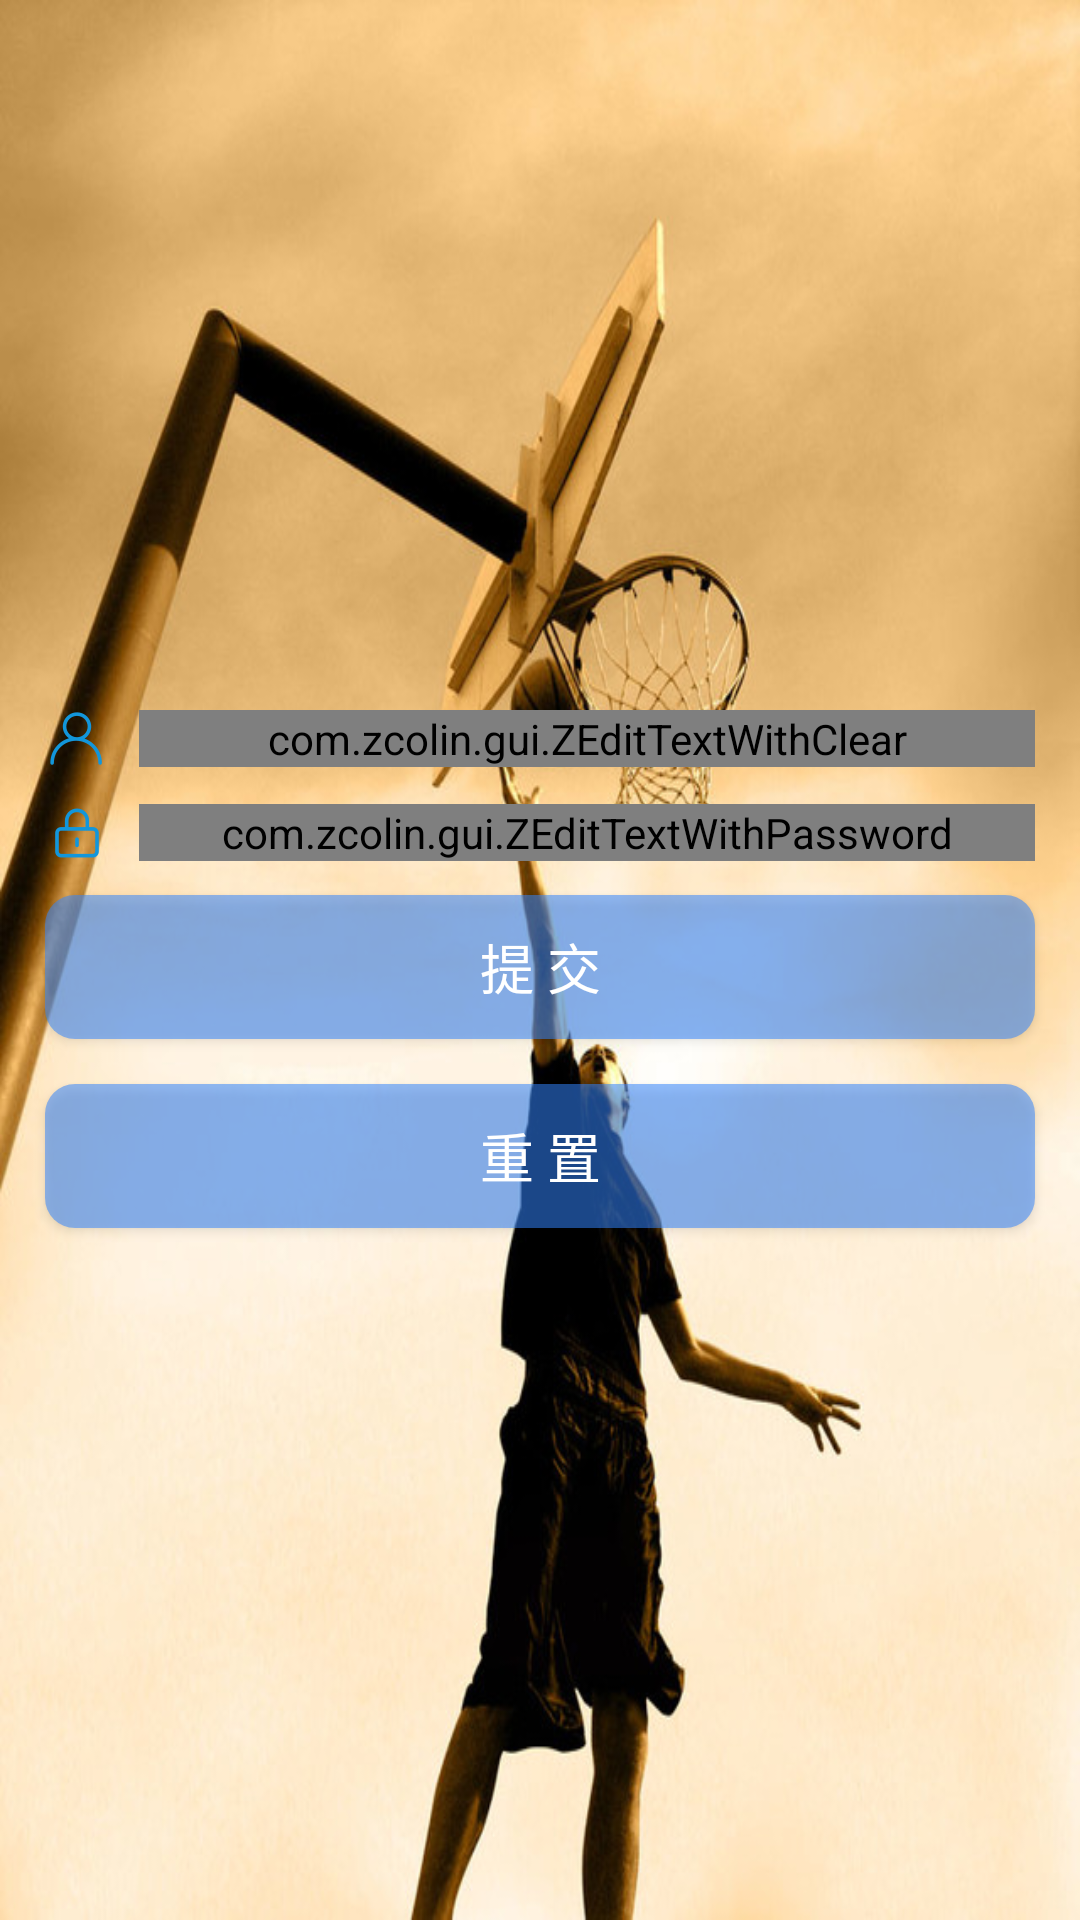

Point at icon controls on the screen. Image size 1080x1920, points as (x,y).
login name: (77,739)
login pwd: (77,833)
